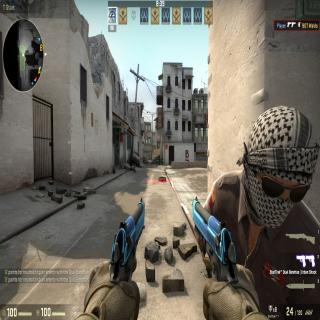T-Body: (208, 103, 318, 320)
T-Head: (238, 102, 318, 228)
